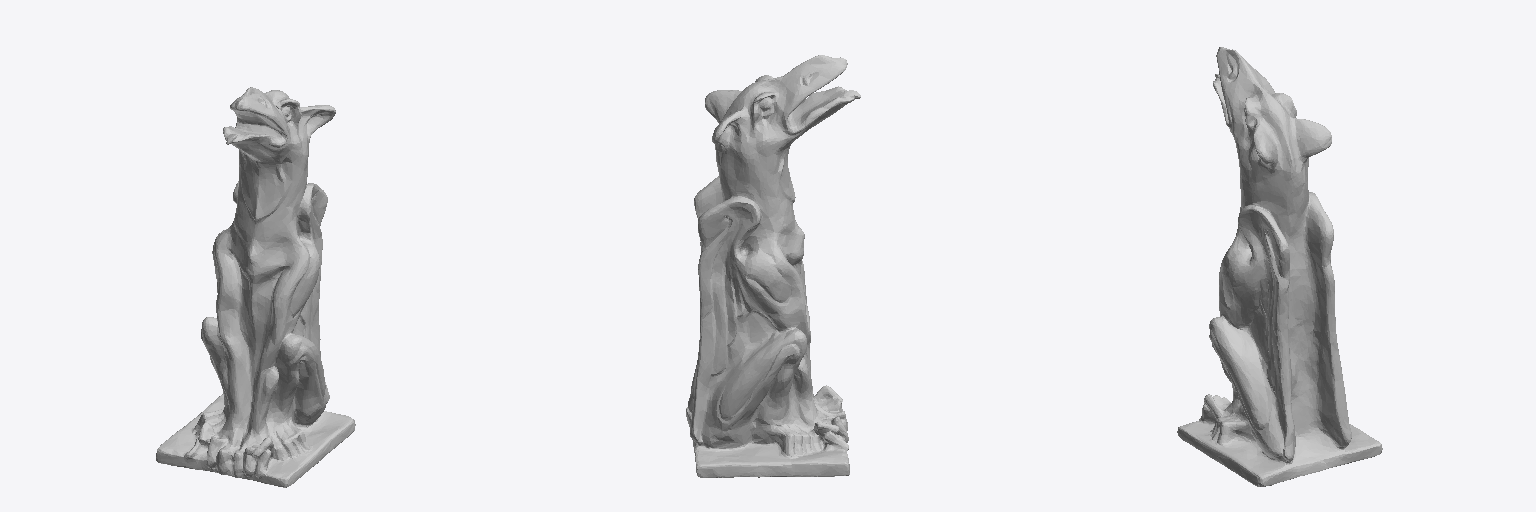
The model's file is garg.obj.
3 renders of one model, left to right at view 1: azimuth 30°, elevation 25°; view 2: azimuth 150°, elevation 25°; view 3: azimuth 270°, elevation 25°, orthographic.
Parts seen in each view (by area): view 1: Mesh; view 2: Mesh; view 3: Mesh.
Boxes of the visible parts, x1=… form: Mesh: x1=156, y1=87, x2=355, y2=487; Mesh: x1=686, y1=55, x2=860, y2=477; Mesh: x1=1177, y1=47, x2=1382, y2=486.
Size of the model in its own units: 0.9691 by 1.96 by 0.9522.